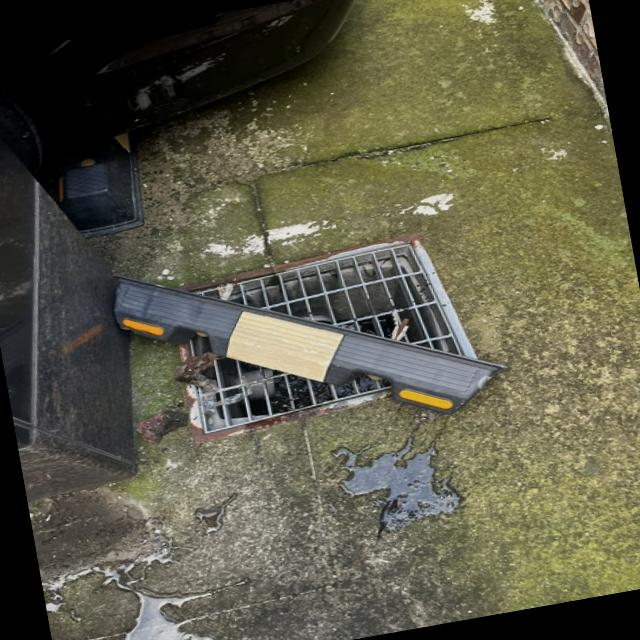drain_area: (227, 246, 463, 355), (201, 357, 388, 432), (191, 337, 209, 356), (199, 288, 218, 299)
drain_full: (179, 243, 470, 433)
